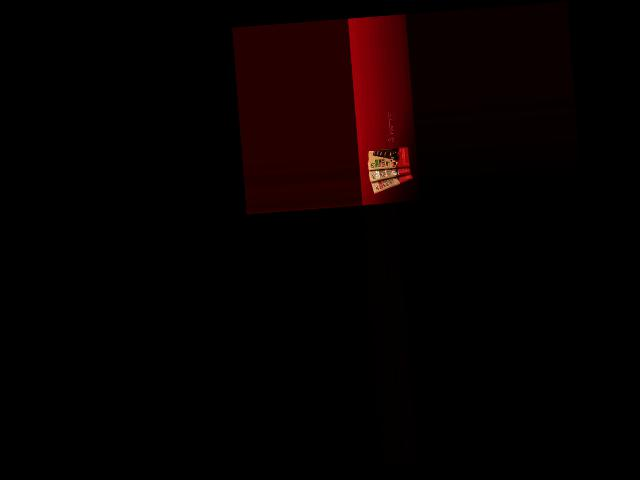chocolate: (368, 169, 415, 193)
